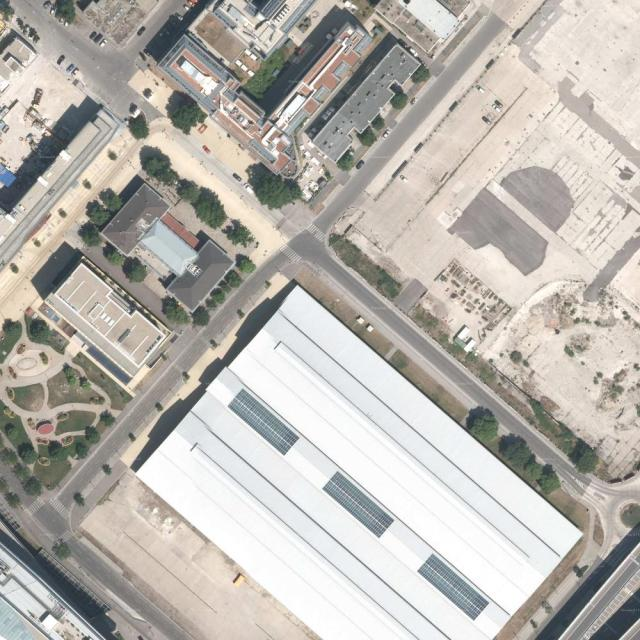building: (156, 32, 315, 187), (36, 256, 174, 389), (268, 17, 377, 142), (311, 42, 421, 164), (99, 182, 171, 257), (165, 239, 237, 314), (138, 218, 199, 279), (193, 11, 246, 64), (159, 211, 202, 250), (0, 597, 36, 639), (228, 47, 265, 84)
greenland: (459, 401, 569, 500), (135, 142, 235, 232), (235, 158, 307, 220), (65, 351, 133, 414), (240, 35, 302, 103), (187, 267, 246, 331), (45, 361, 104, 408), (157, 86, 209, 139), (81, 185, 126, 231), (0, 397, 32, 453), (7, 460, 47, 501), (565, 439, 604, 478), (155, 293, 192, 332), (221, 217, 257, 253), (33, 460, 73, 491), (0, 318, 24, 366), (11, 383, 47, 414), (74, 218, 107, 251), (97, 241, 128, 271), (11, 16, 43, 45), (42, 437, 71, 467), (125, 112, 153, 143), (14, 439, 41, 467), (122, 255, 148, 284), (49, 537, 75, 563), (335, 149, 360, 175), (409, 63, 434, 89), (26, 319, 50, 343), (387, 89, 411, 112), (356, 126, 379, 149), (54, 0, 77, 23), (0, 445, 21, 469), (3, 487, 24, 510), (236, 254, 258, 274), (369, 114, 388, 132), (84, 425, 100, 444), (75, 440, 90, 459)
